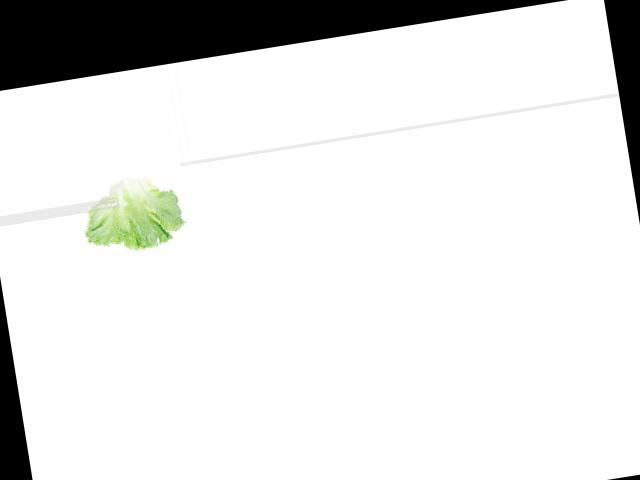lettuce: (81, 169, 187, 256)
